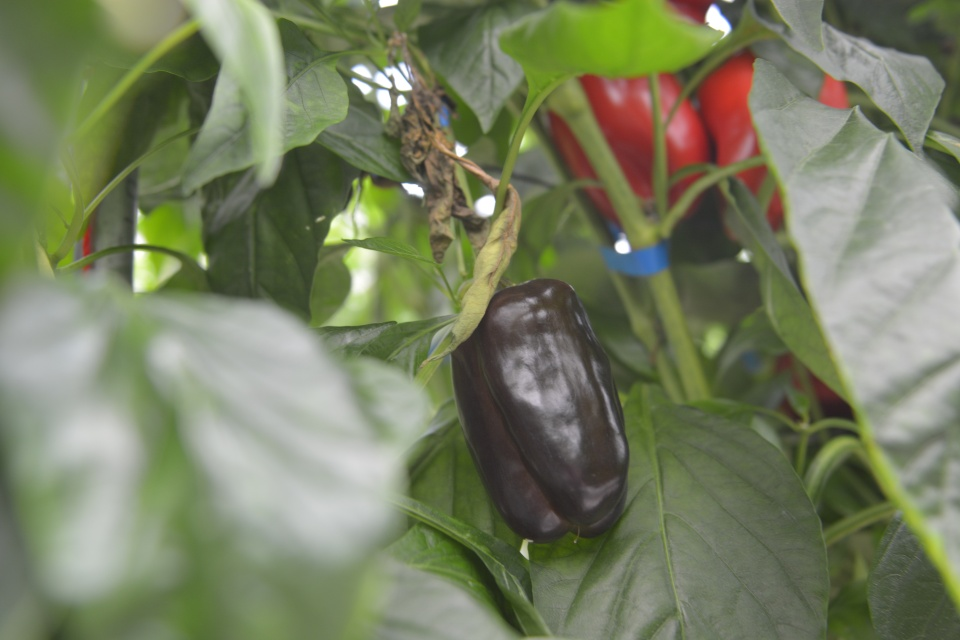fruit: (444, 268, 636, 548), (700, 47, 848, 237), (545, 72, 712, 228)
